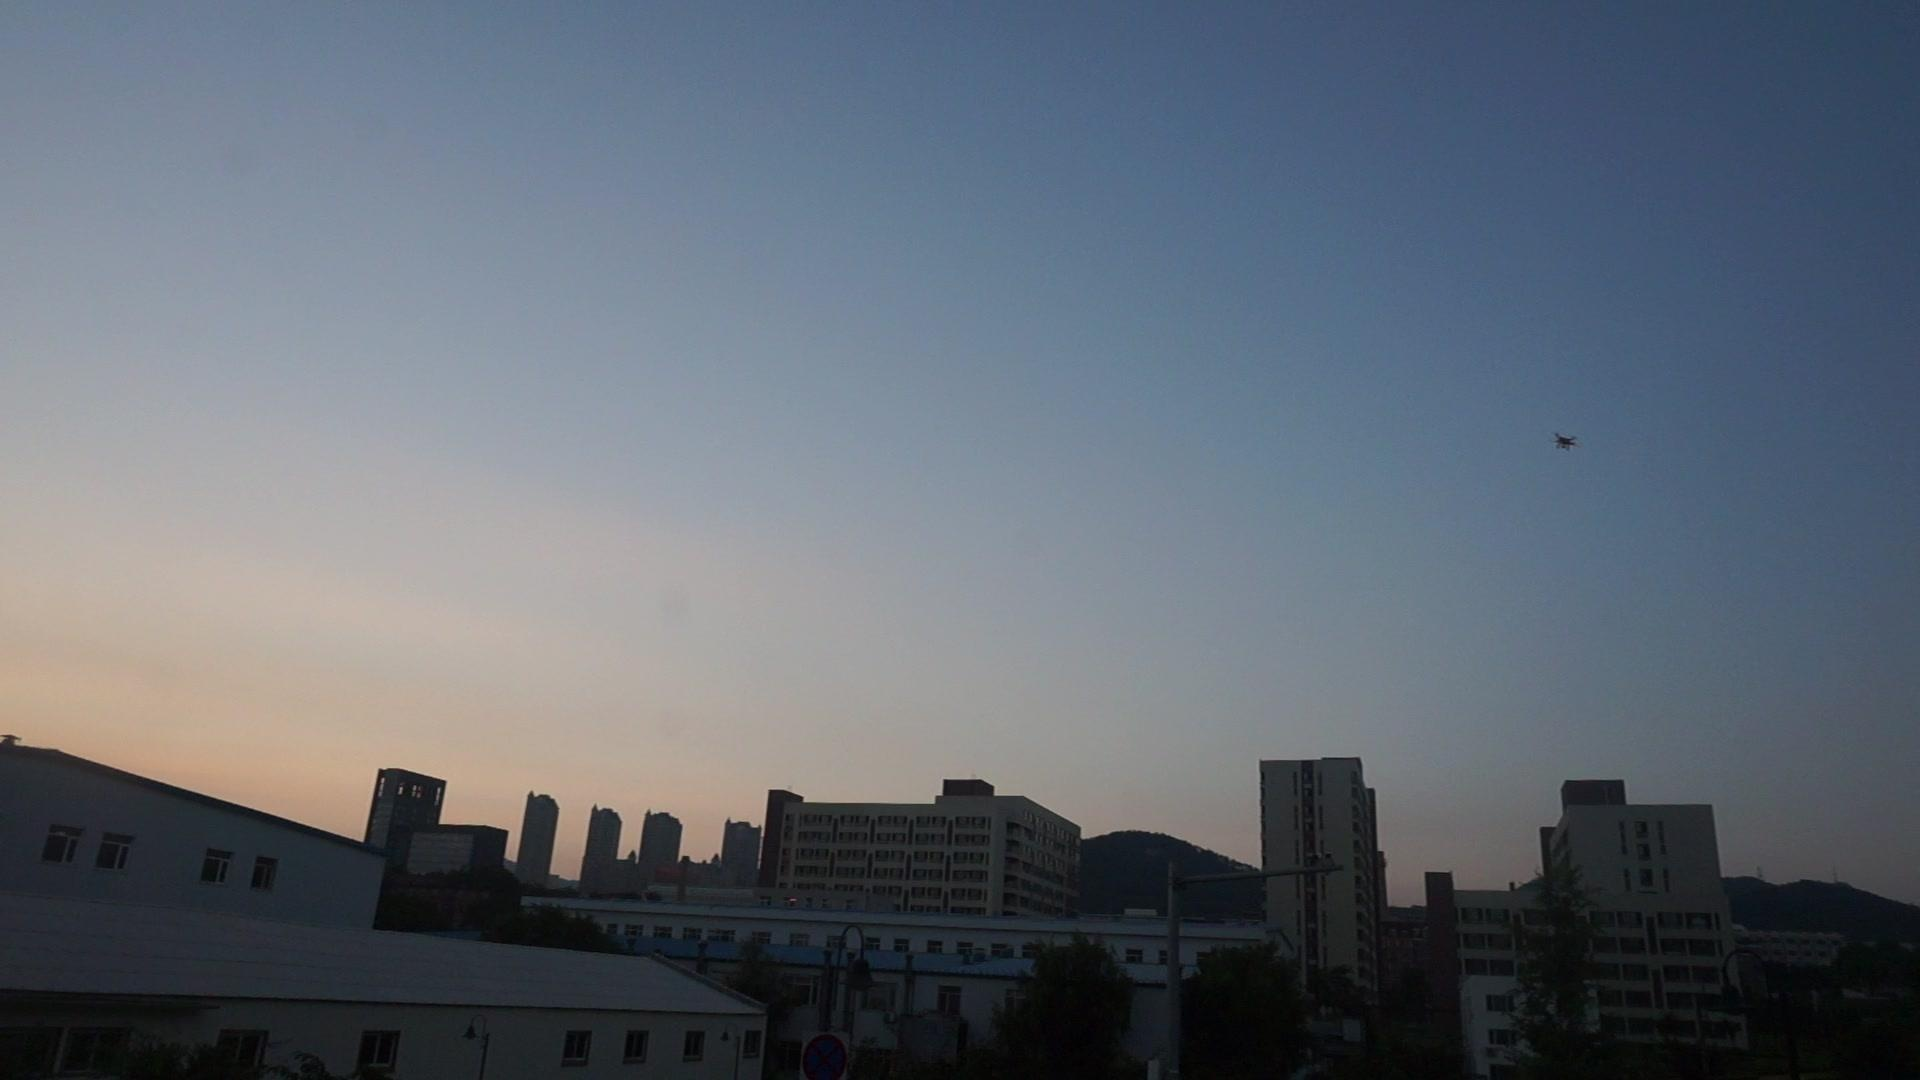UAV: (1549, 433, 1582, 454)
